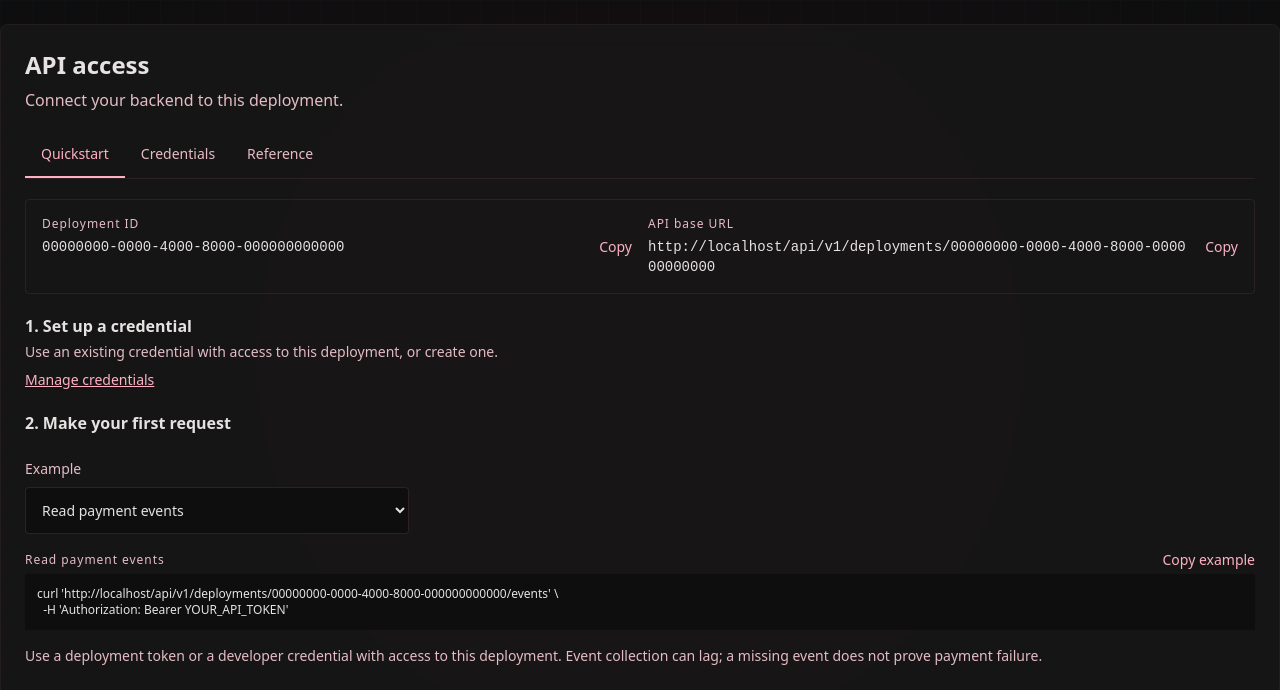
deployment integration instructions › offers monitoring without deposit execution for webhook
Expected: the text "Read payment events command" shows "YOUR_API_TOKEN", [37,585,558,618]
Click the tab "Reference" at [280, 155], box [231,132,329,178]
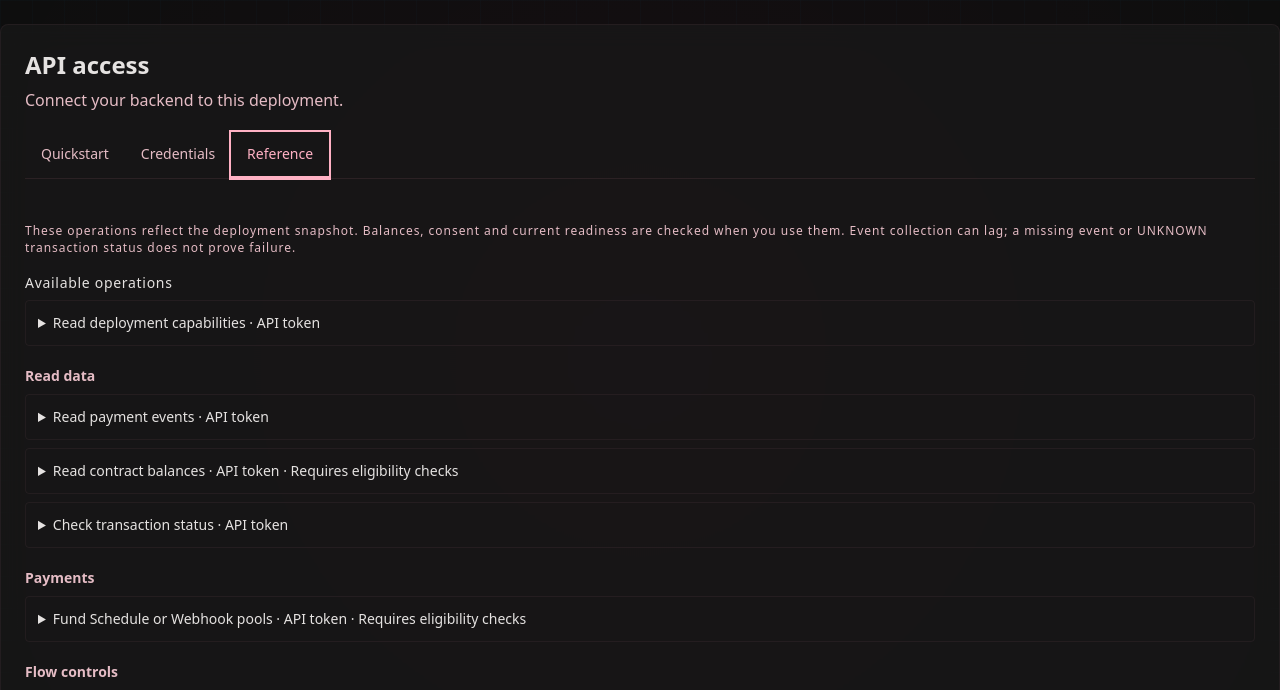
Expected: the heading "Check transaction status · API token" is shown, [53,515,288,534]
